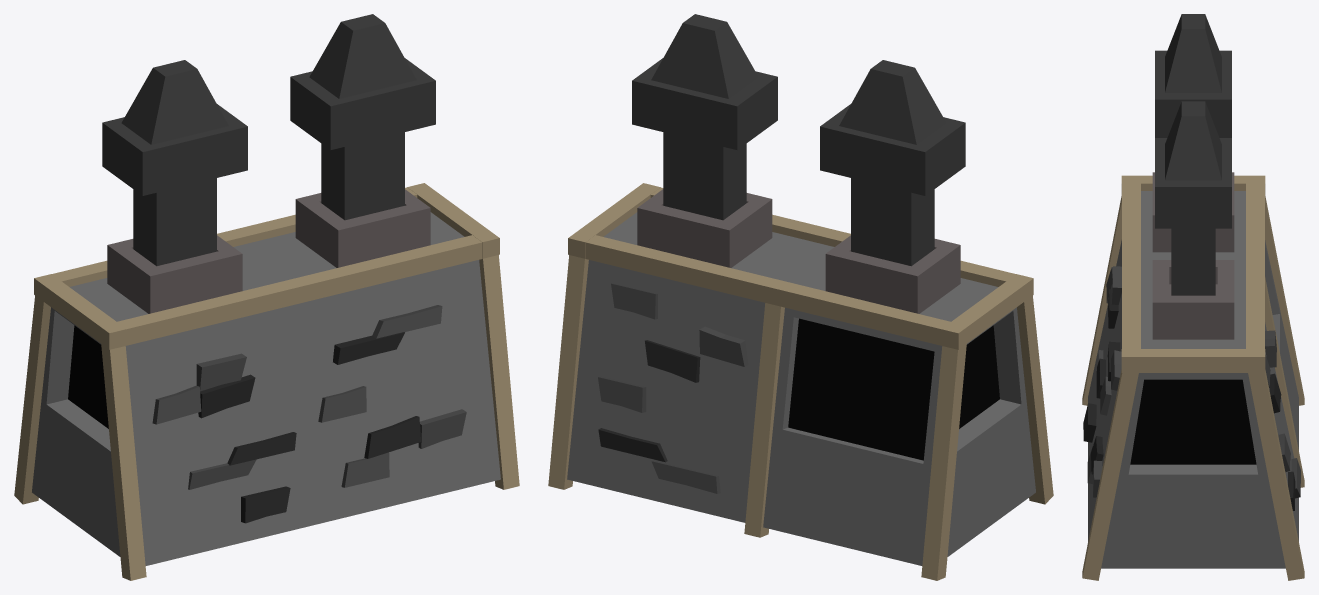
Rendered from Compressor.fbx.
3 renders of one model, left to right at view 1: azimuth 30°, elevation 25°; view 2: azimuth 150°, elevation 25°; view 3: azimuth 270°, elevation 25°, orthographic. The views are drawn at different scales.
Visible parts, largest first — view 1: Compressor, Compressor.001, Compressor.002; view 2: Compressor, Compressor.001, Compressor.002; view 3: Compressor, Compressor.002, Compressor.001.
Boxes of the visible parts, left/top/right/bottom form: Compressor: left=14, top=183, right=519, bottom=580; Compressor.001: left=102, top=60, right=247, bottom=266; Compressor.002: left=290, top=14, right=435, bottom=220; Compressor: left=548, top=183, right=1053, bottom=580; Compressor.001: left=820, top=60, right=965, bottom=266; Compressor.002: left=632, top=14, right=777, bottom=220; Compressor: left=1082, top=172, right=1304, bottom=580; Compressor.002: left=1155, top=101, right=1231, bottom=295; Compressor.001: left=1155, top=14, right=1231, bottom=137.
Bounding box in the file's own units: 287 × 314 × 148.
